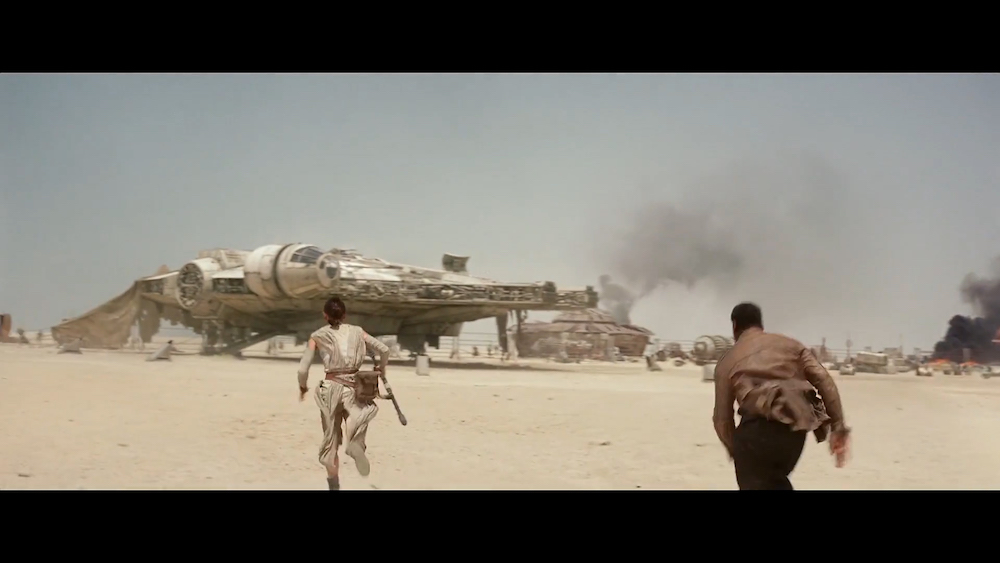Millennium Falcon: (135, 244, 601, 343)
